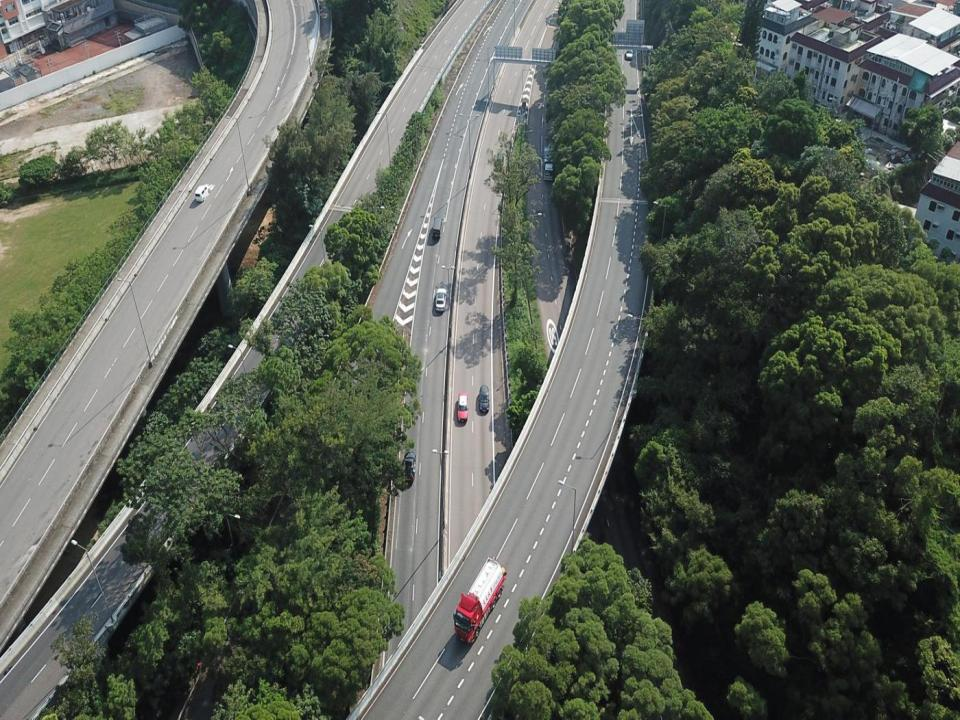car: (403, 450, 416, 485), (457, 391, 468, 423), (478, 384, 490, 413), (194, 184, 211, 202), (435, 288, 447, 312), (493, 152, 505, 172), (626, 45, 634, 60)
truck: (453, 555, 508, 644), (542, 144, 554, 181)
van: (432, 216, 444, 238)
